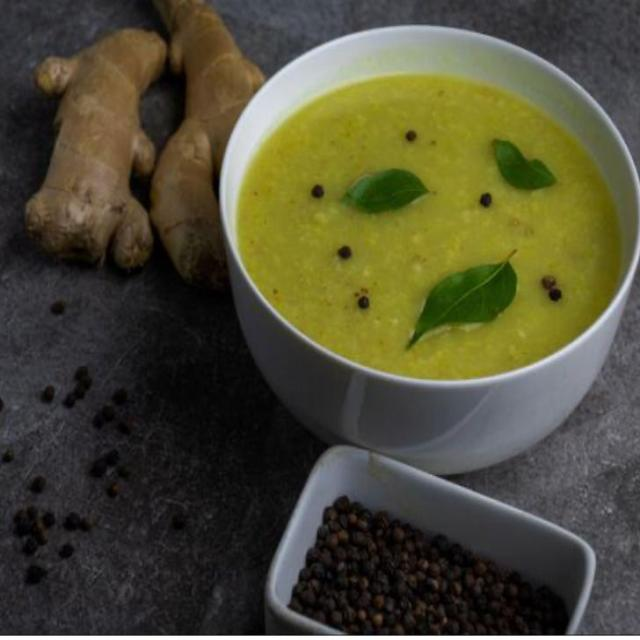PORRIDGE: (238, 69, 622, 379)
